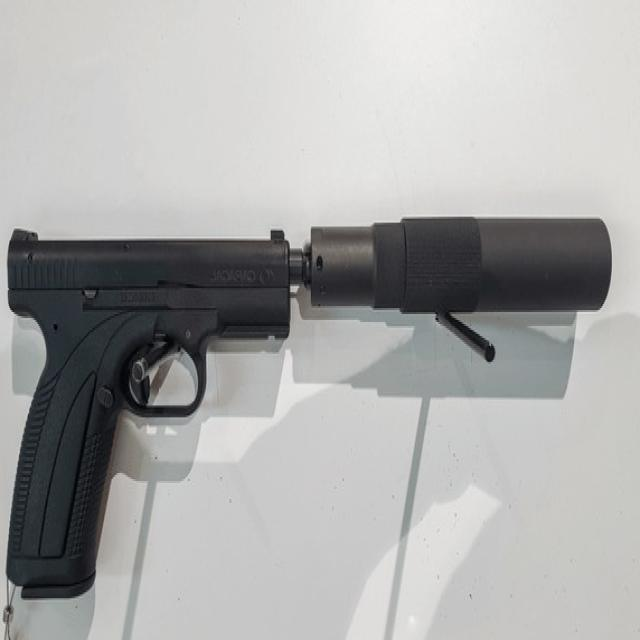Gun: (0, 195, 301, 604)
